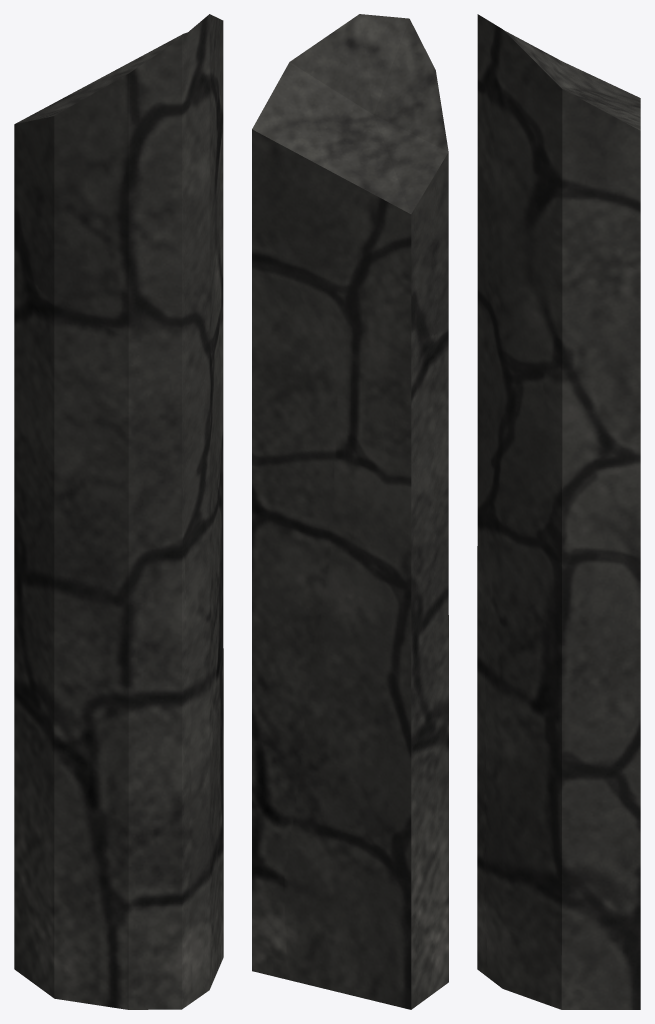
File: stone_pillar_6.fbx
3 views of the same model, side by side, from view 1: azimuth 30°, elevation 25°; view 2: azimuth 150°, elevation 25°; view 3: azimuth 270°, elevation 25° (orthographic). The views are drawn at different scales.
Visible parts, largest first — view 1: ruraltown_house_standard.002; view 2: ruraltown_house_standard.002; view 3: ruraltown_house_standard.002.
Boxes of the visible parts, x1,y1,x2,y2 form: ruraltown_house_standard.002: (14,14,223,1009); ruraltown_house_standard.002: (252,14,448,1009); ruraltown_house_standard.002: (477,14,640,1009).
Size of the model in its own units: 32.23 by 178 by 27.41.
